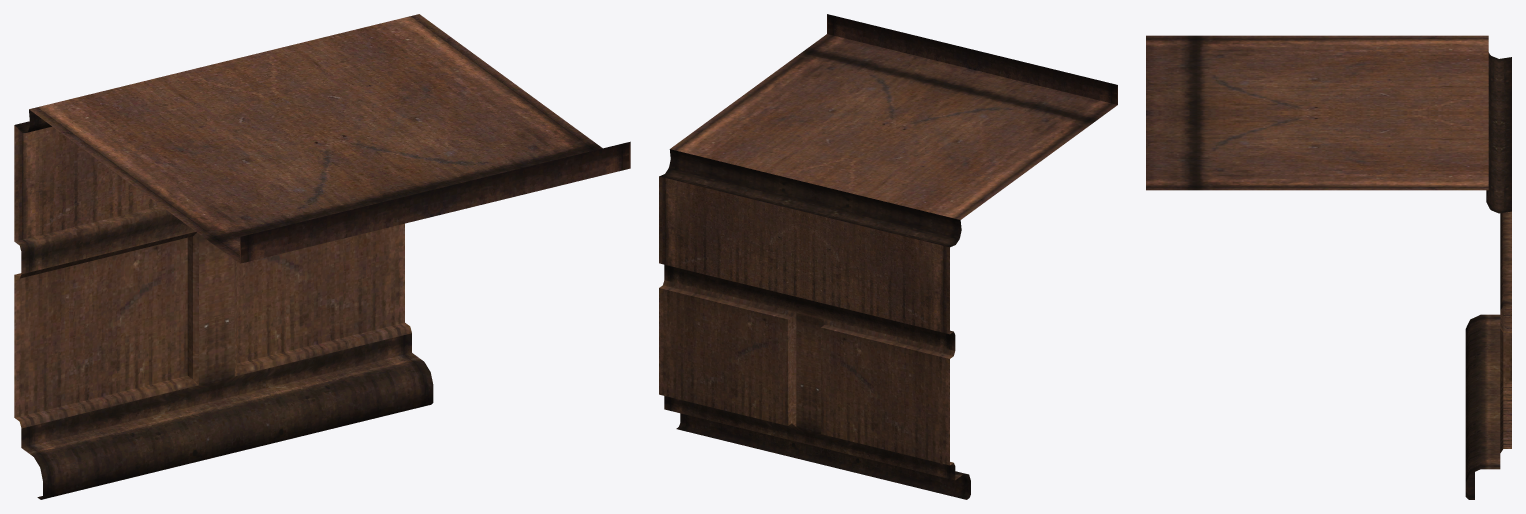
The model's file is concave03_short.dae.
3 renders of one model, left to right at view 1: azimuth 30°, elevation 25°; view 2: azimuth 150°, elevation 25°; view 3: azimuth 270°, elevation 25°, orthographic. The views are drawn at different scales.
Parts seen in each view (by area): view 1: concave_short; view 2: concave_short; view 3: concave_short.
Boxes of the visible parts, <box> form: concave_short: <box>14,14,630,499</box>; concave_short: <box>659,14,1117,499</box>; concave_short: <box>1146,35,1511,499</box>.
Size of the model in its own units: 2 by 2 by 2.
Materials: 1 (1 with a texture image).
